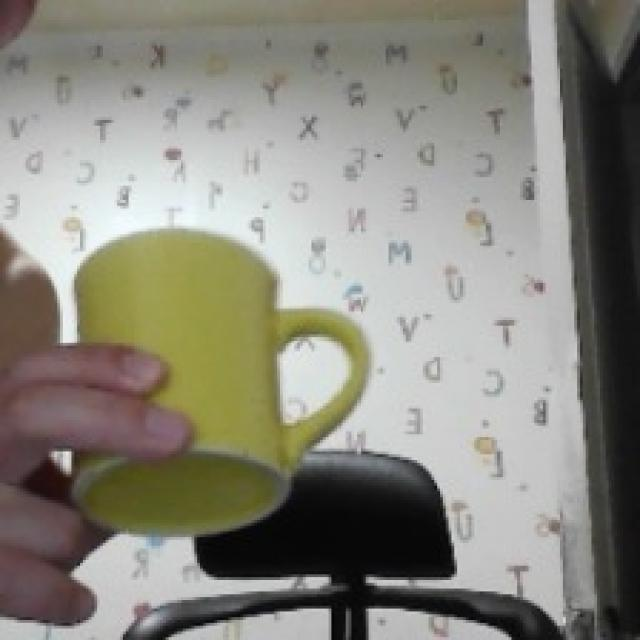cup: (77, 231, 369, 534)
